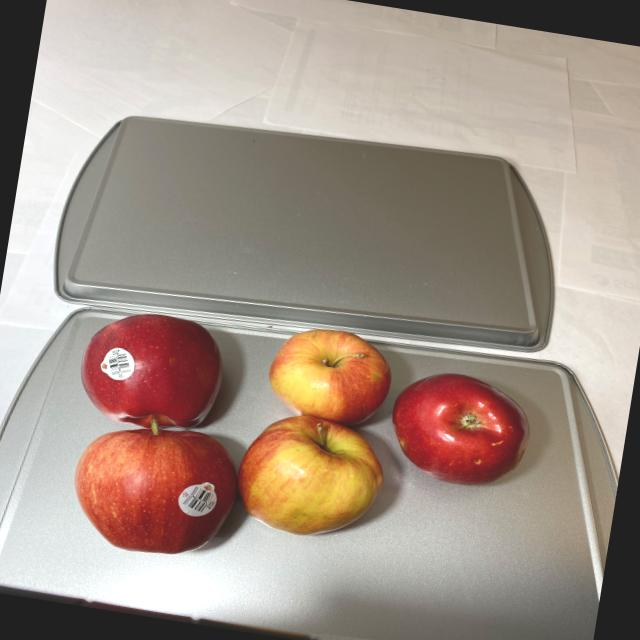apple: (49, 292, 544, 611)
